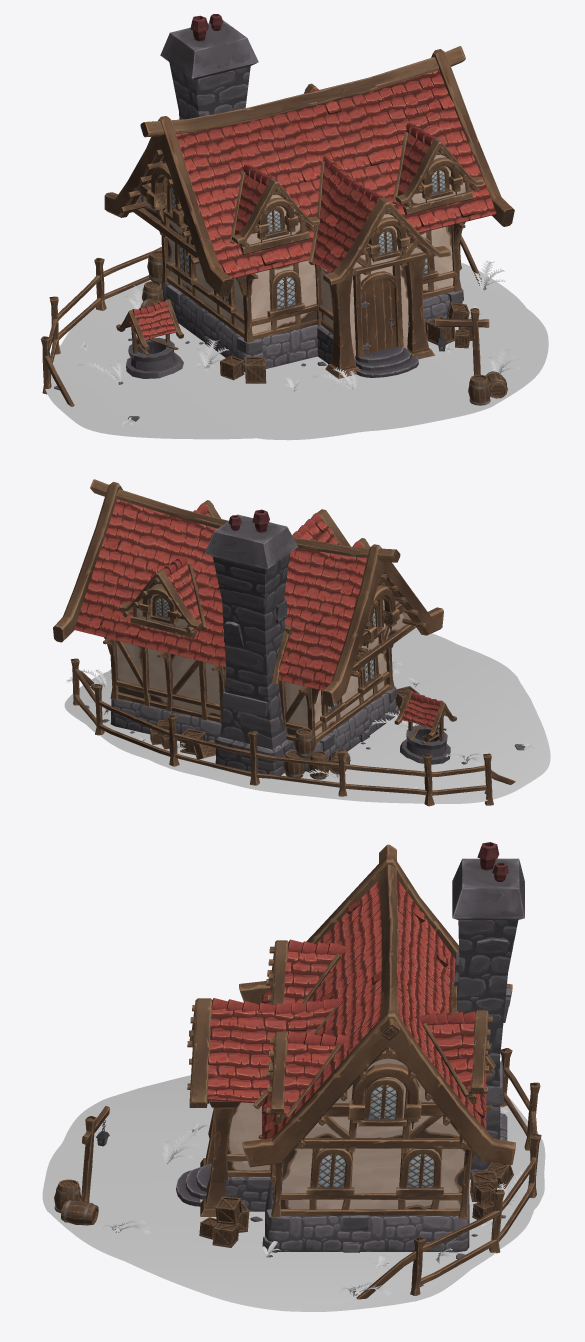
The model's file is sketchfab.fbx.
3 renders of one model, top to bottom at view 1: azimuth 30°, elevation 25°; view 2: azimuth 150°, elevation 25°; view 3: azimuth 270°, elevation 25°, orthographic. The views are drawn at different scales.
Visible parts, largest first — view 1: Box041; view 2: Box041; view 3: Box041.
Part boxes in pixels (x1=…): Box041: x1=40, y1=14, x2=548, y2=440; Box041: x1=53, y1=479, x2=550, y2=806; Box041: x1=42, y1=842, x2=545, y2=1311.
Size of the model in its own units: 387 by 214 by 321.
